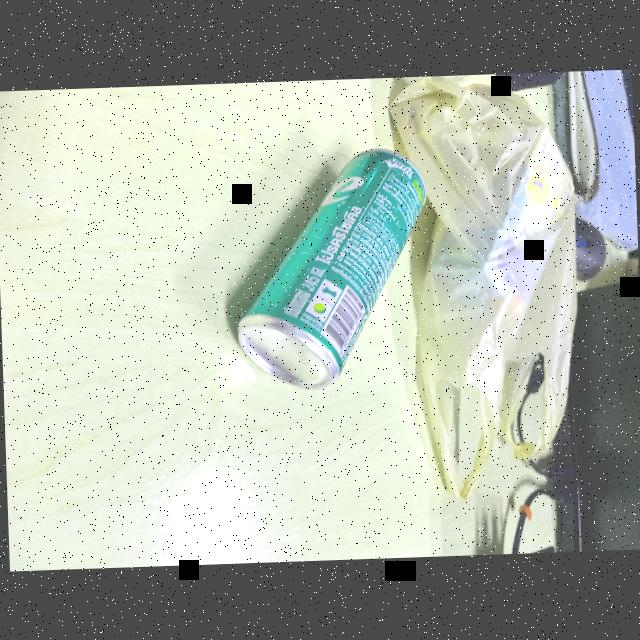can: (208, 132, 442, 402)
